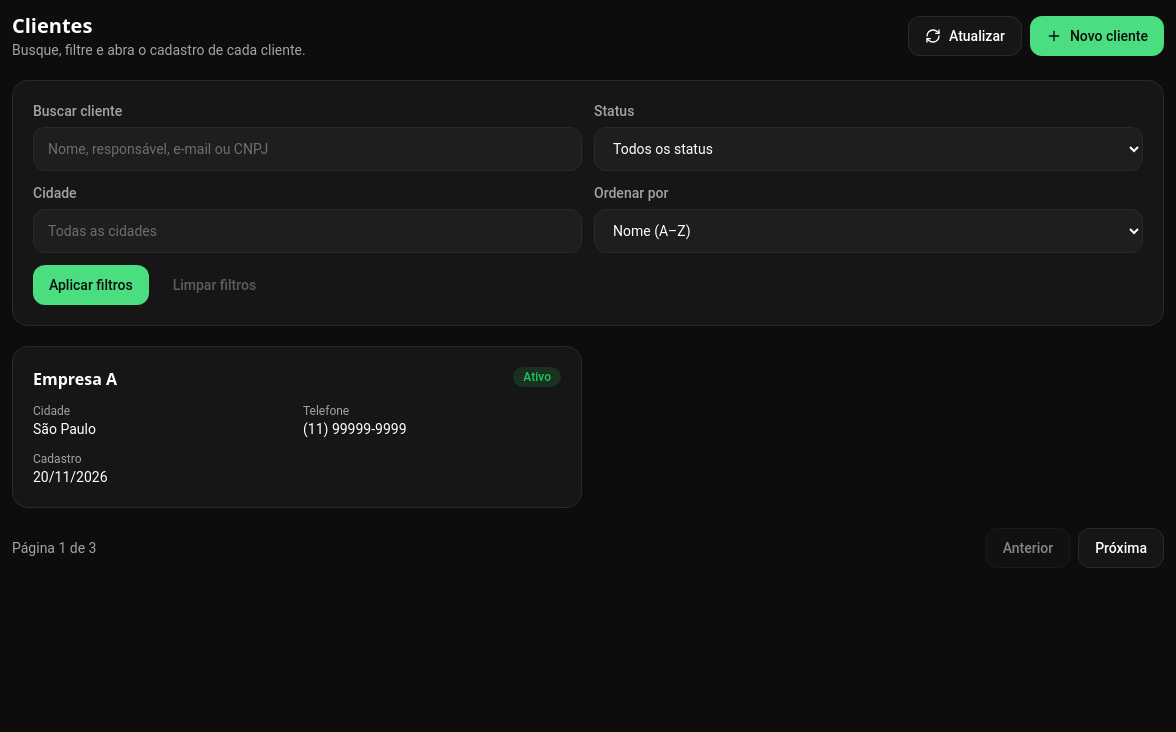
Test: ClientsPage › volta para a última página válida quando o total diminui
The image size is (1176, 732).
Check: the link "Empresa A" is shown, box [33,368,117,390]
What coordinates should you click on to do the following:
click the button "Próxima"
I would click on:
 (1121, 548)
Its box is [1078,528,1164,568].
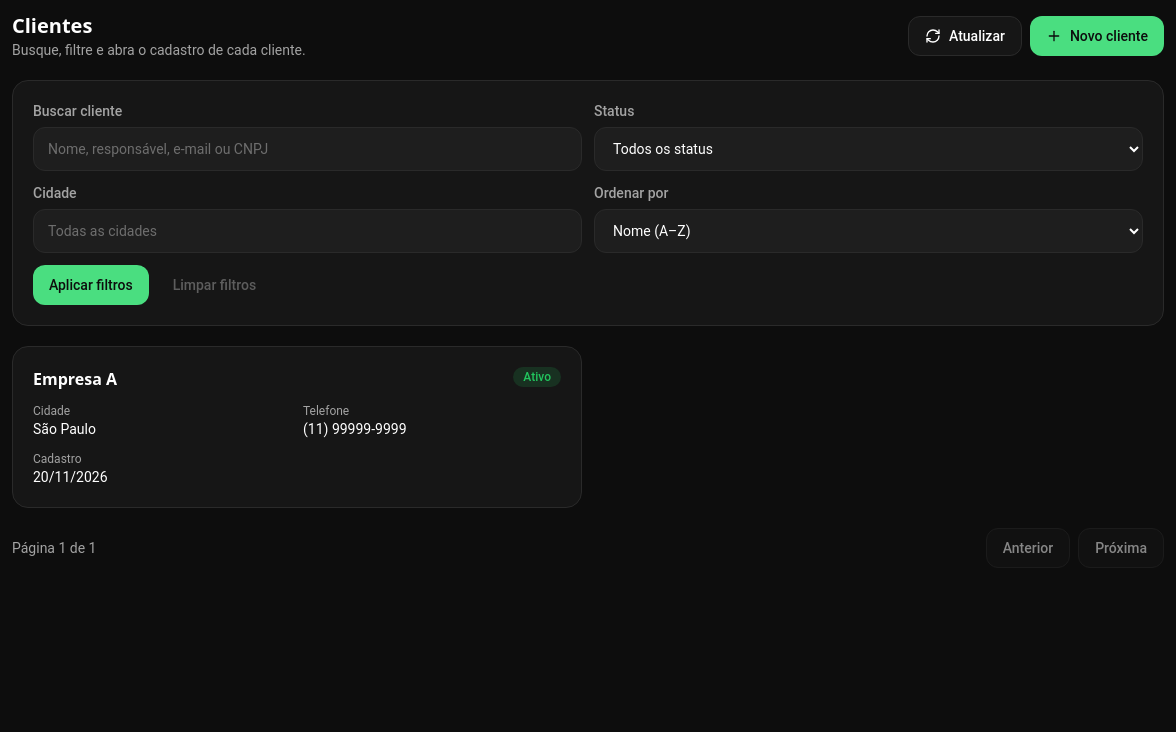
Check: the link "Empresa A" is shown, box [33,368,117,390]
Check: the text "Página 1 de 1" is shown, box [12,538,96,558]
Check: the button "Próxima" is disabled, box [1078,528,1164,568]
